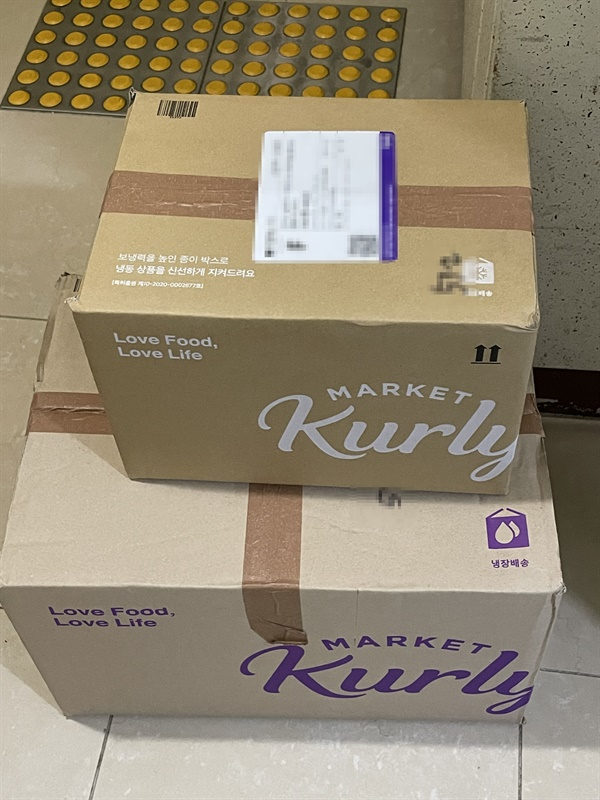undamaged: (0, 264, 563, 722), (68, 82, 537, 500)
